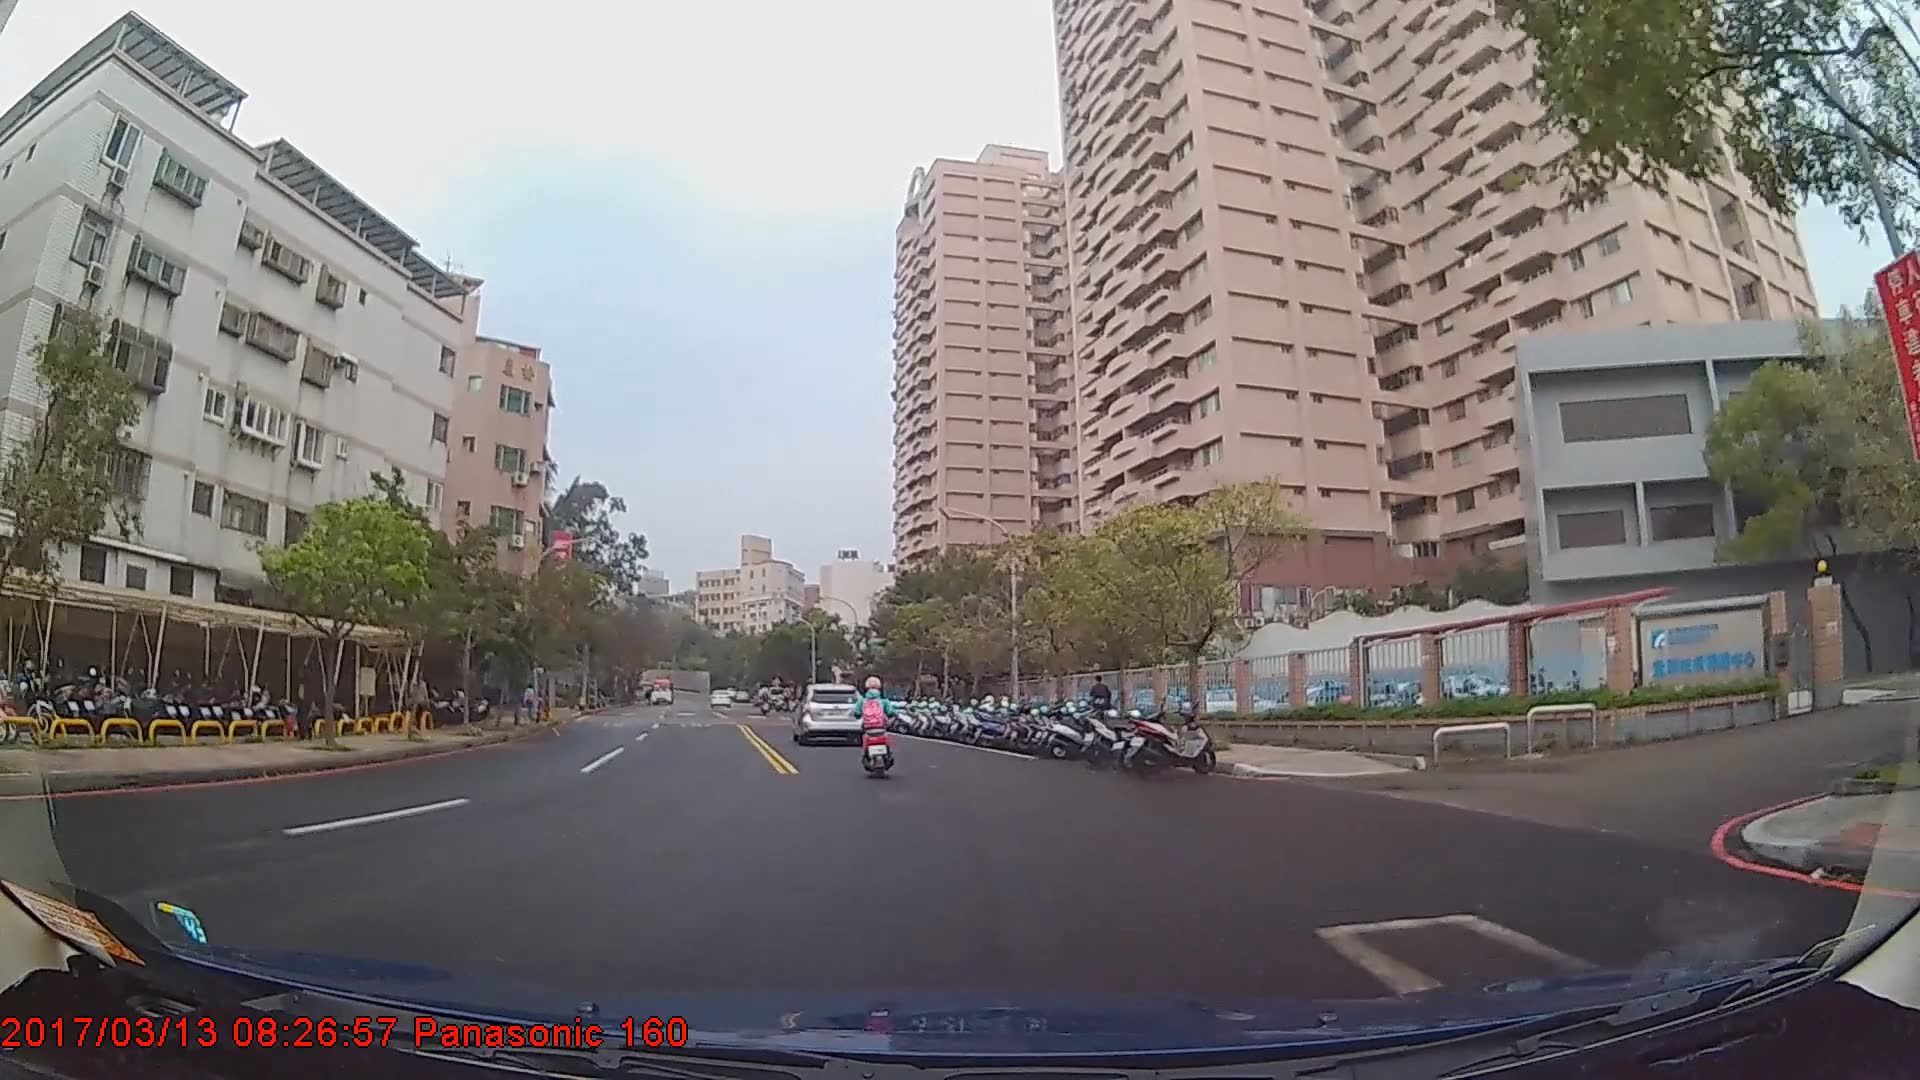pedestrian: (292, 661, 317, 739), (1091, 674, 1114, 737)
rider: (854, 675, 895, 769)
vehicle: (794, 682, 868, 745), (647, 678, 676, 707)
